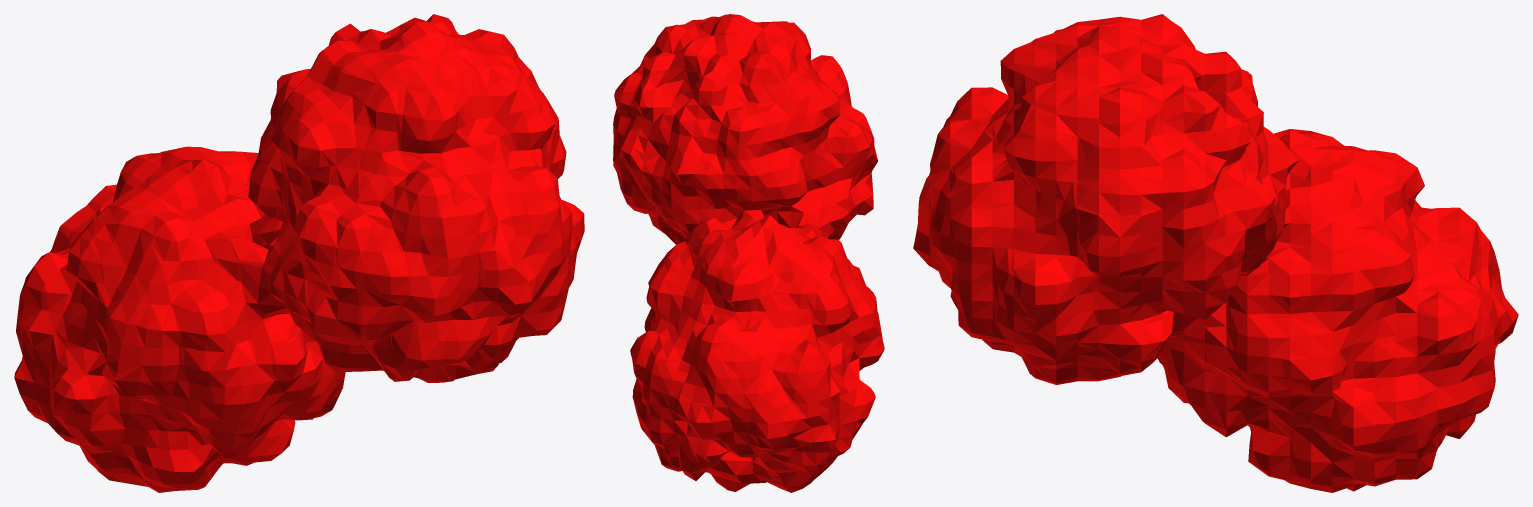
Rendered from clpP_coarse.dae.
3 renders of one model, left to right at view 1: azimuth 30°, elevation 25°; view 2: azimuth 150°, elevation 25°; view 3: azimuth 270°, elevation 25°, orthographic. The views are drawn at different scales.
Visible parts, largest first — view 1: clpP; view 2: clpP; view 3: clpP.
Boxes of the visible parts, box(x1,y1,x2,y2) form: clpP: box(14, 14, 584, 492); clpP: box(613, 14, 884, 492); clpP: box(913, 14, 1518, 492).
Bounding box in the file's own units: 152 × 179 × 188.
